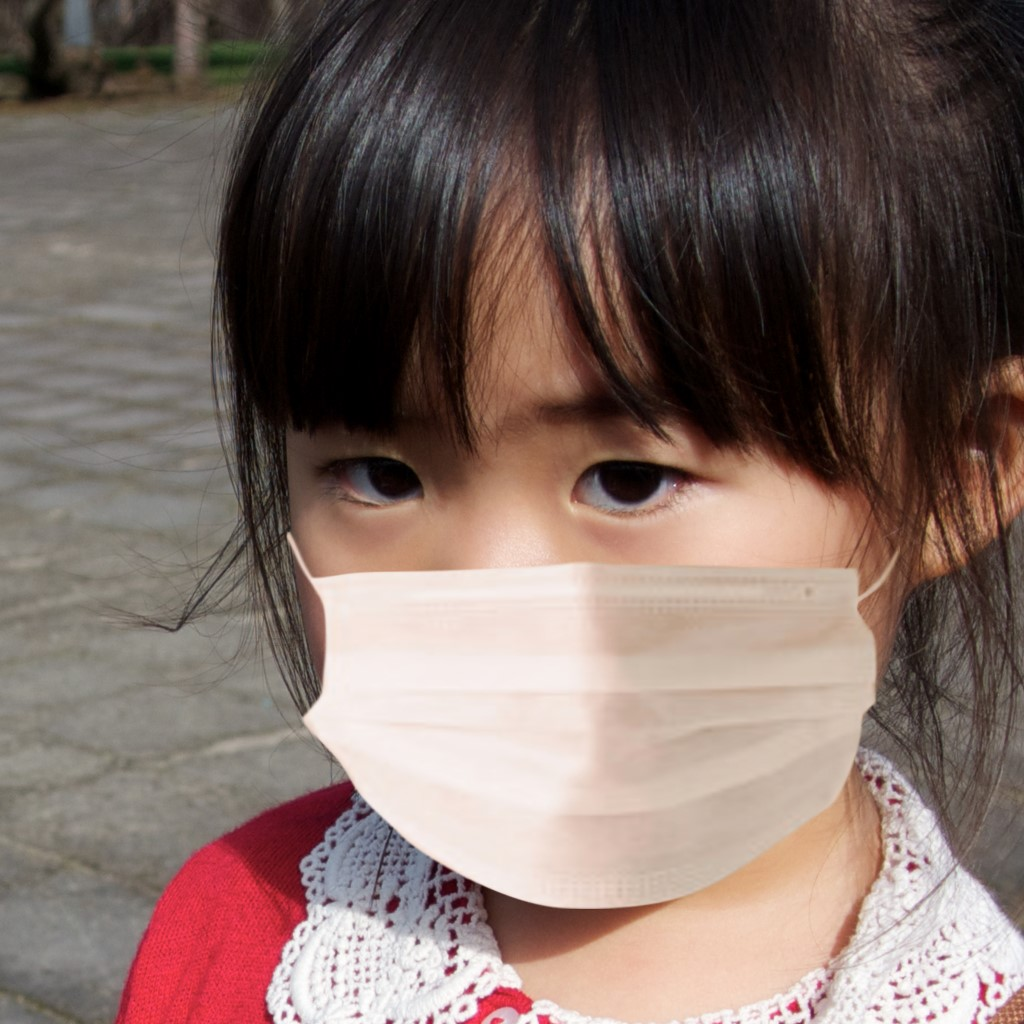con_mascara: (260, 128, 924, 905)
